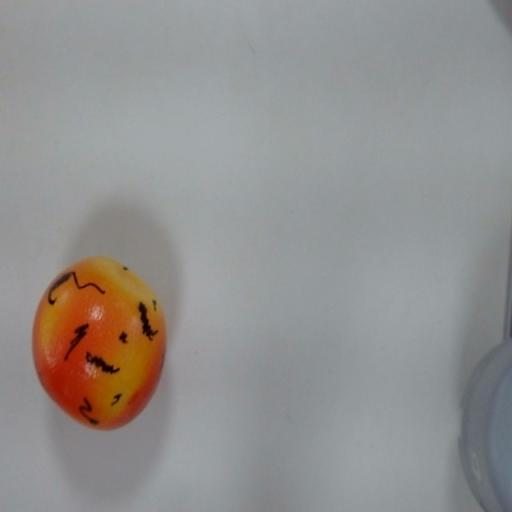Defective: (29, 253, 168, 431)
